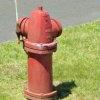a fire hydrant: (20, 6, 60, 94)
